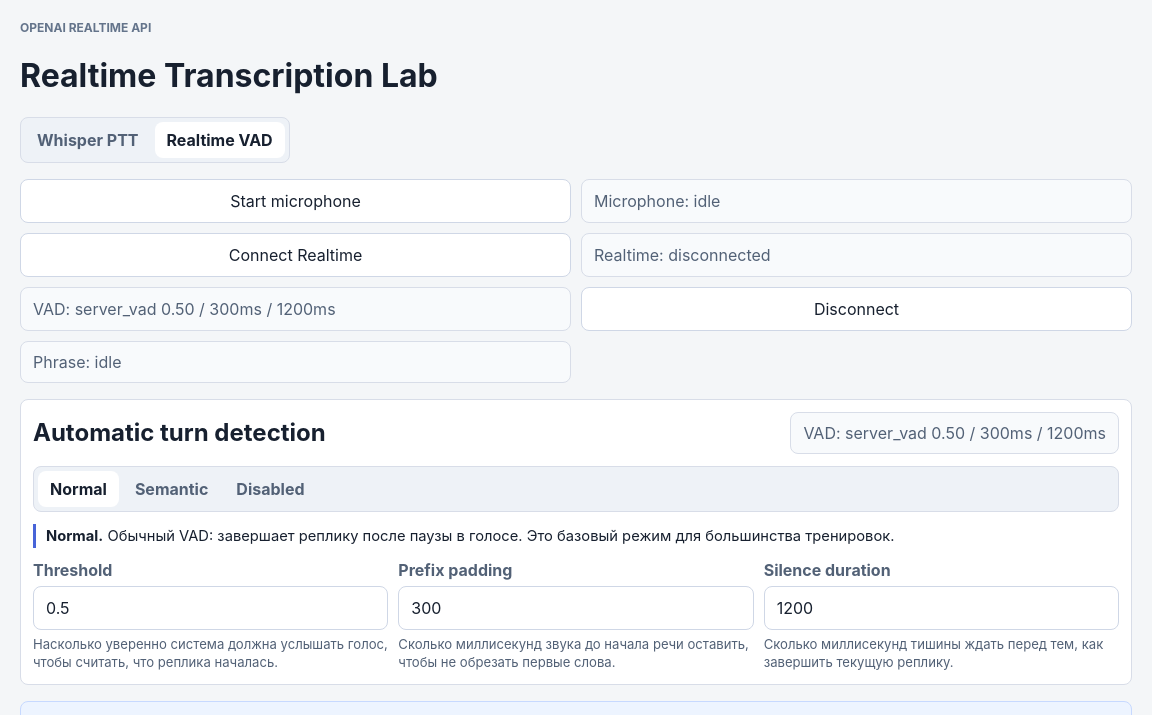
Test: Realtime Transcription Lab › starts microphone before requesting a Realtime VAD client secret by default
The image size is (1152, 715).
Expected: the heading "Realtime Transcription Lab" is shown, x1=20 y1=56 x2=438 y2=95
Click the button "Start microphone" at (296,201), box x1=20 y1=179 x2=571 y2=223
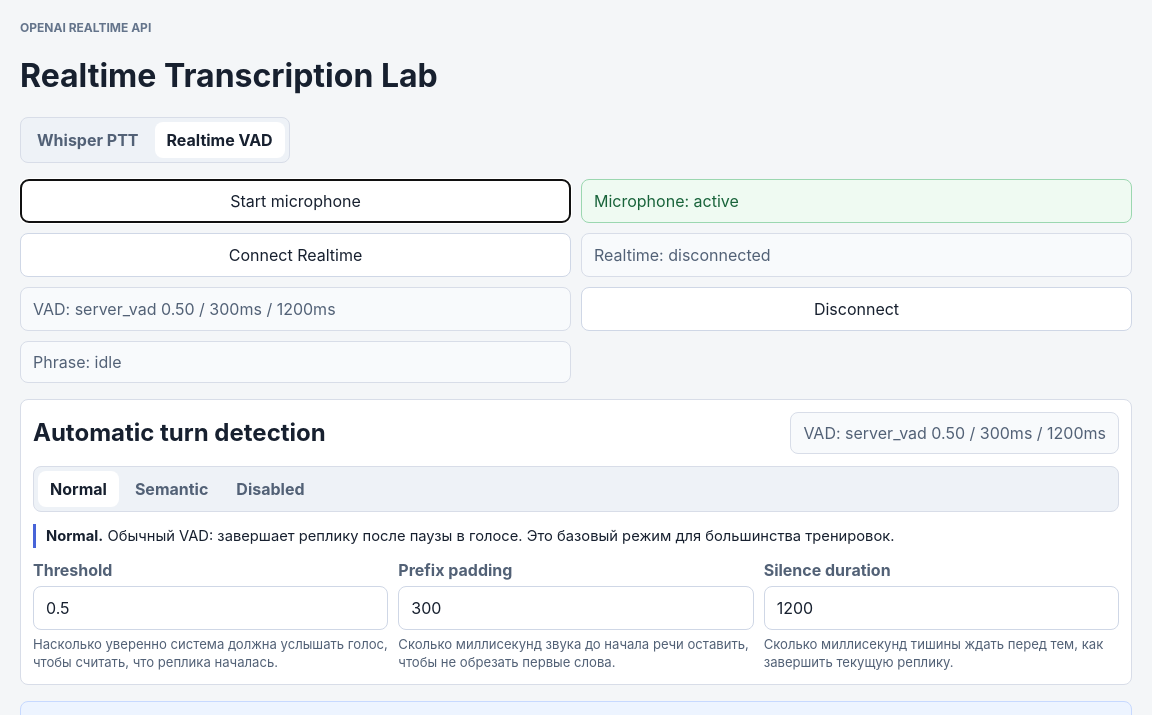
Click the button "Connect Realtime" at (296,255), box x1=20 y1=233 x2=571 y2=277
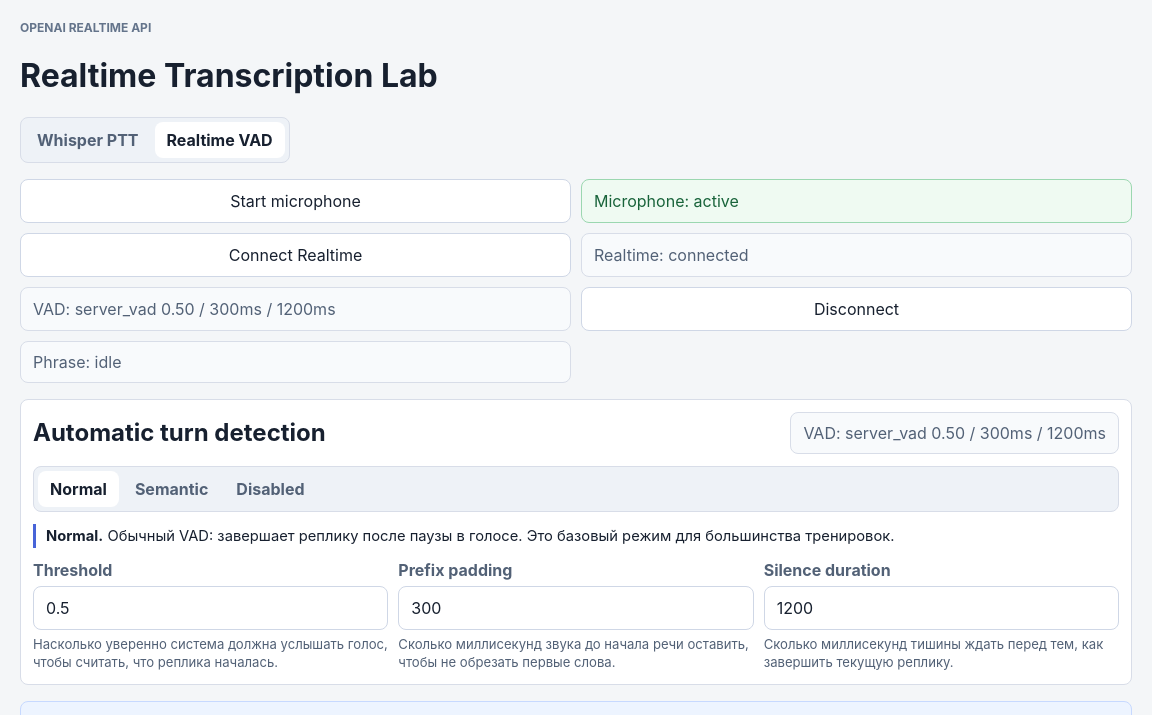
Now the text "Realtime: connected" is shown, box x1=581 y1=233 x2=1132 y2=277
